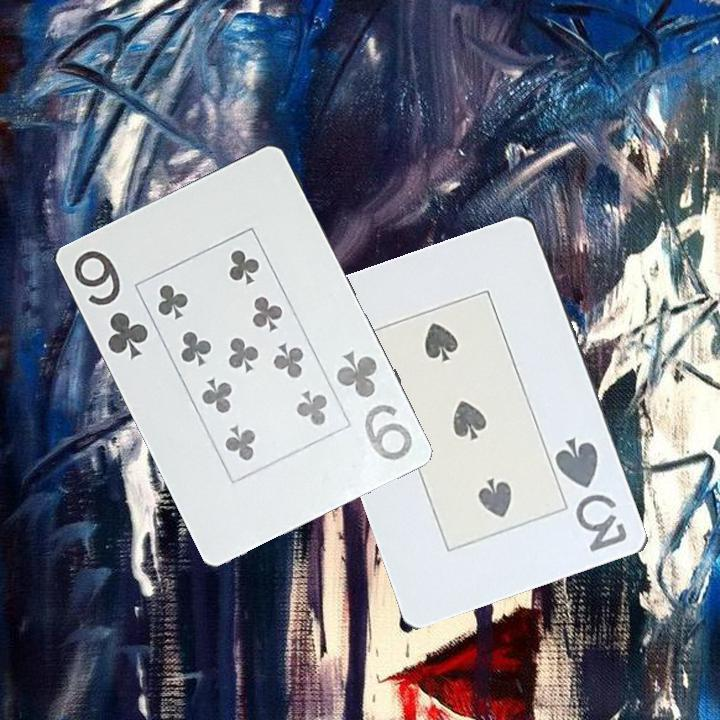3s: (552, 433, 631, 555)
9c: (331, 346, 415, 464), (69, 246, 151, 362)
